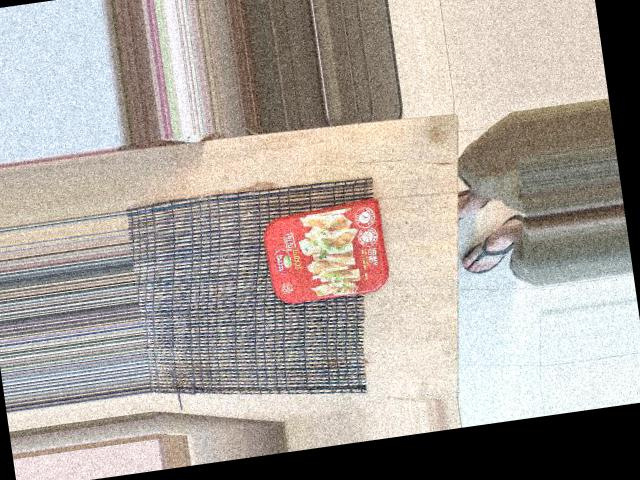cheese: (249, 155, 415, 320)
